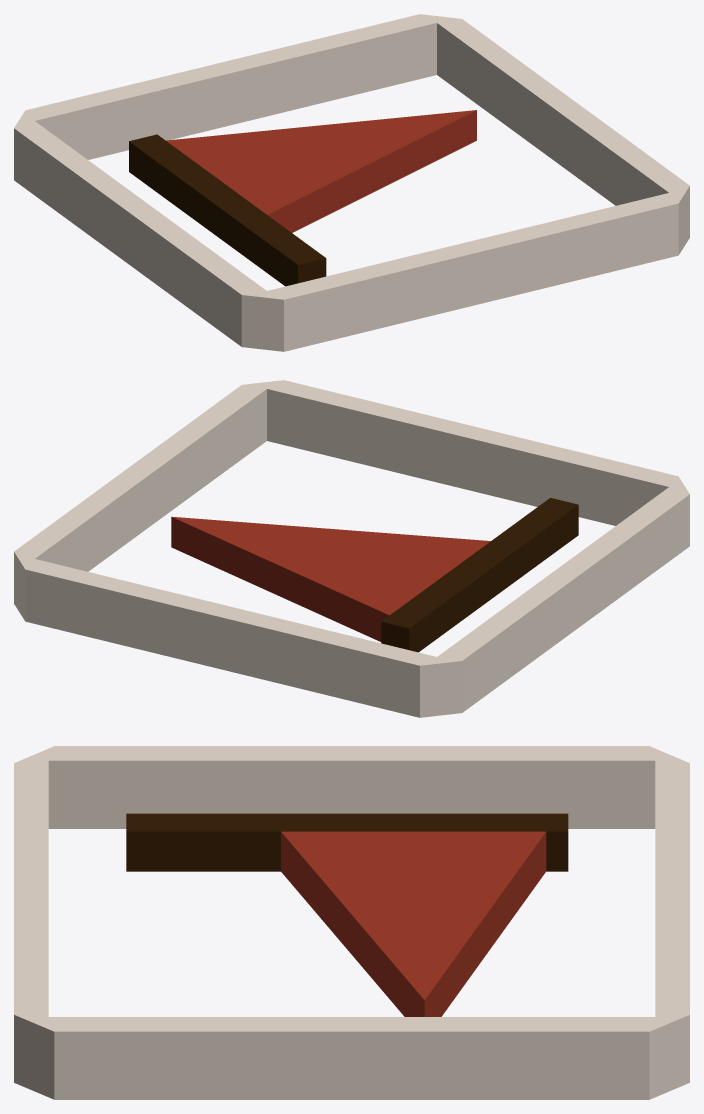
The model's file is bonus_tank_armor.glb.
3 renders of one model, top to bottom at view 1: azimuth 30°, elevation 25°; view 2: azimuth 150°, elevation 25°; view 3: azimuth 270°, elevation 25°, orthographic. The views are drawn at different scales.
Visible parts, largest first — view 1: bonus_tank_armor; view 2: bonus_tank_armor; view 3: bonus_tank_armor.
Part boxes in pixels (x1,y1,x2,y2): bonus_tank_armor: (14,14,689,351); bonus_tank_armor: (14,380,689,717); bonus_tank_armor: (14,746,689,1099).
Size of the model in its own units: 1.8 by 0.2 by 1.8.
Materials: 1 (1 with a texture image).
